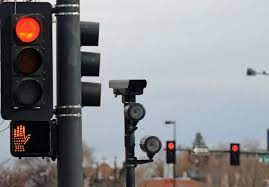red: (0, 2, 53, 120), (230, 143, 240, 166), (166, 141, 175, 164)
